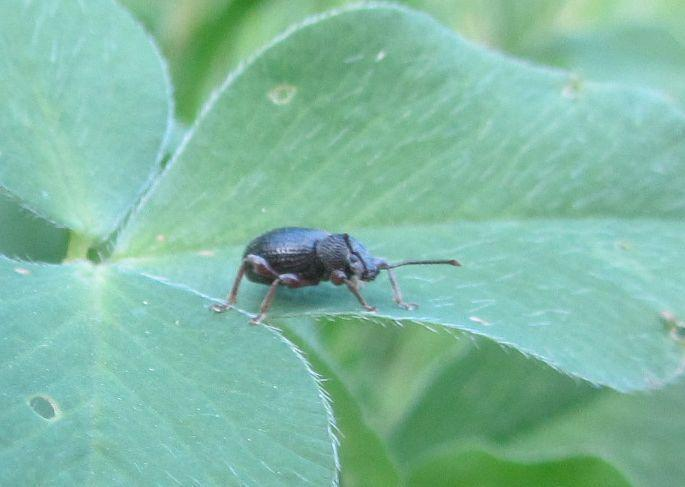weevils: (185, 191, 484, 354)
